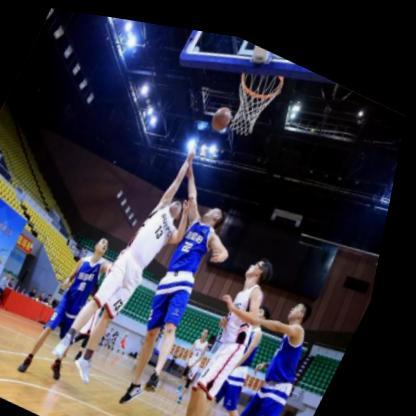basketball: (210, 96, 238, 127)
rim: (219, 50, 289, 135)
